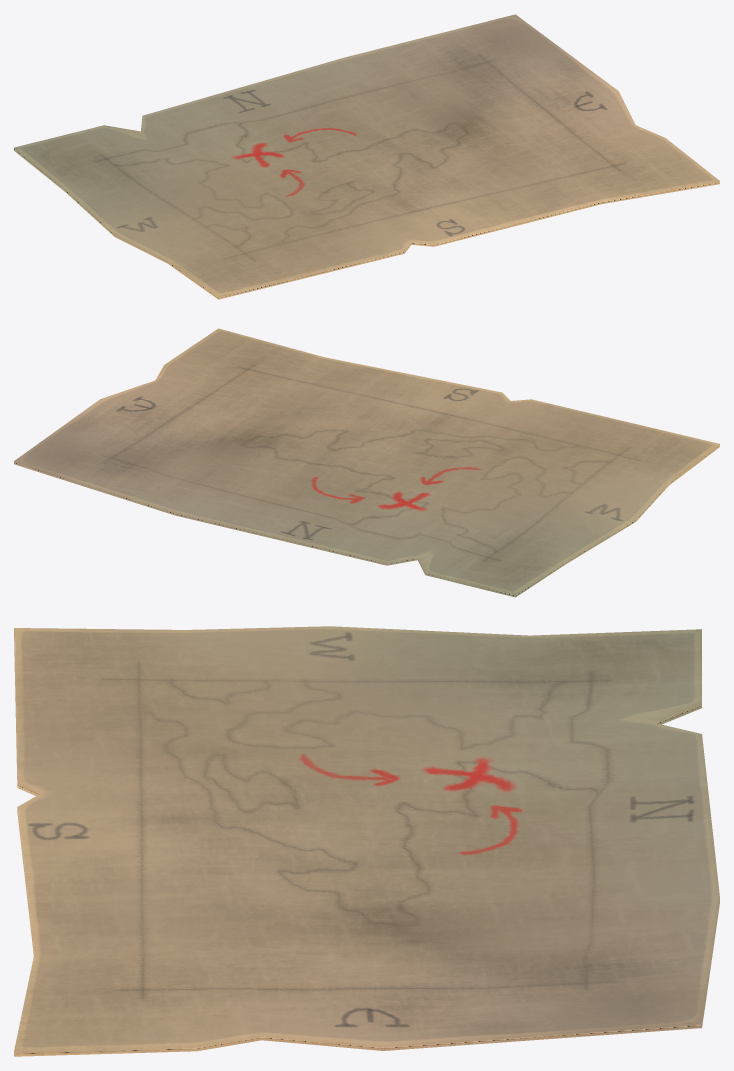
The model's file is low_poly_stylized_map.glb.
The picture shows the model from 3 angles, top to bottom: view 1: azimuth 30°, elevation 25°; view 2: azimuth 150°, elevation 25°; view 3: azimuth 270°, elevation 25°; orthographic projection. The views are drawn at different scales.
Visible parts, largest first — view 1: map; view 2: map; view 3: map.
Part boxes in pixels (x1,y1,x2,y2): map: (14, 14, 719, 299); map: (14, 328, 719, 597); map: (14, 626, 719, 1056).
Size of the model in its own units: 0.5593 by 0.0208 by 0.391.
Materials: 1 (1 with a texture image).
